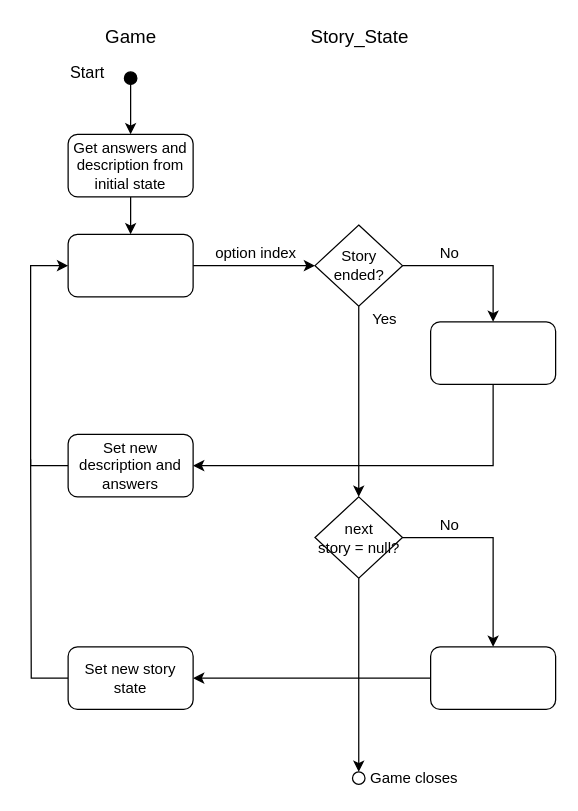
This 578x811 diagram has some shape labels left out. Each missing label, with the centre of its shape:
"Create instance of next story" belongs at [492,677].
"Player chooses option" belongs at [130,265].
"Set next story part as current" belongs at [492,352].
